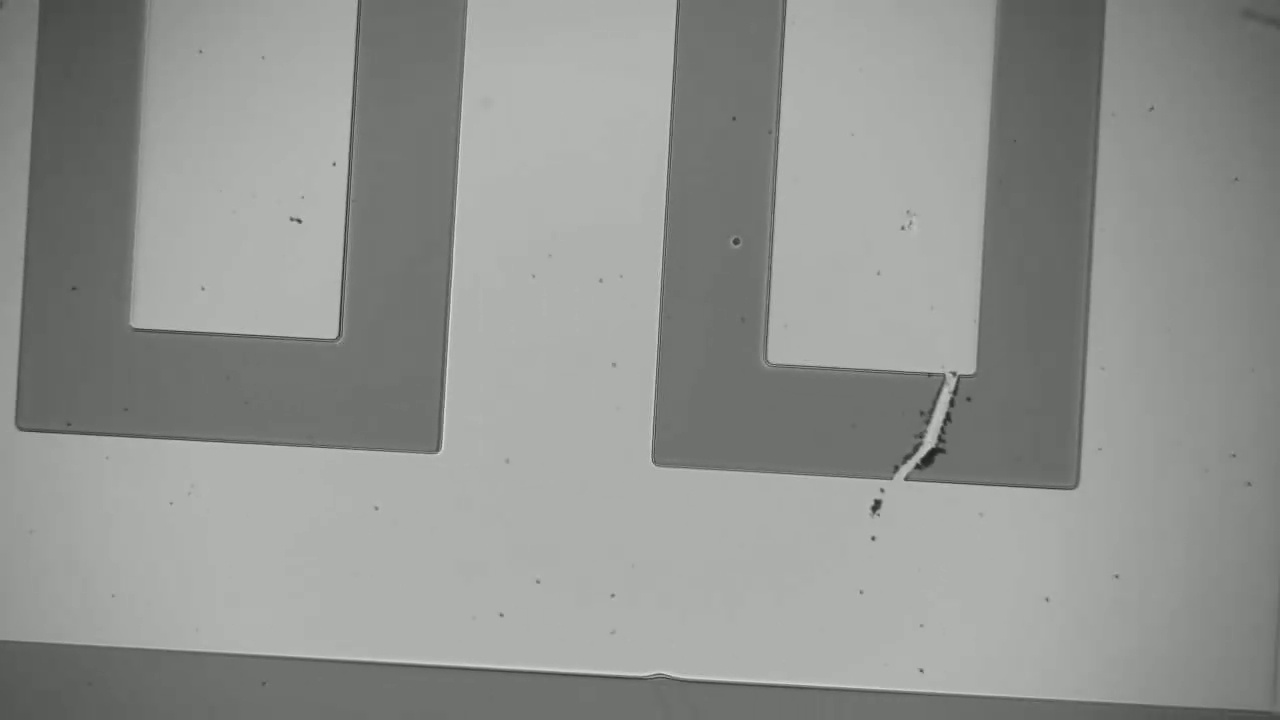Short_circuit: (870, 360, 972, 504)
